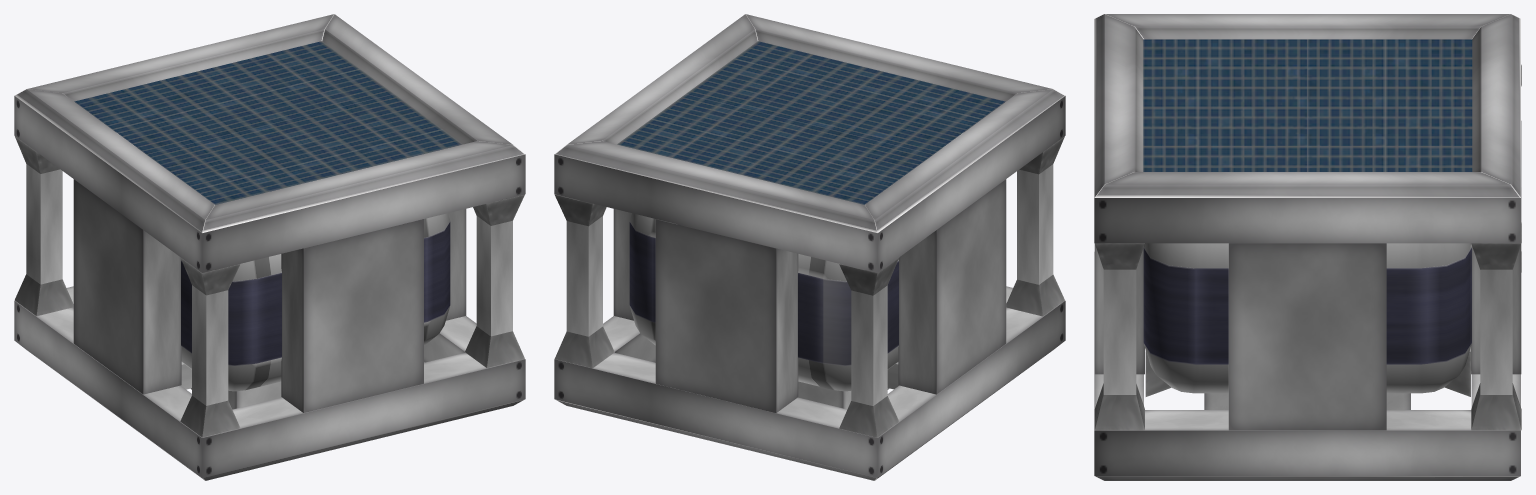
Rendered from QuarterChassis.FBX.
3 renders of one model, left to right at view 1: azimuth 30°, elevation 25°; view 2: azimuth 150°, elevation 25°; view 3: azimuth 270°, elevation 25°, orthographic. The views are drawn at different scales.
Parts seen in each view (by area): view 1: Frame001, Box001, Frame002, SideHardpoint002, SideHardpoint001, StorageTank001, Pilar002, Pilar004, Pilar001, SideHardpoint003, TopHardpoint002; view 2: Frame001, Box001, Frame002, SideHardpoint004, SideHardpoint001, StorageTank001, Pilar001, Pilar003, Pilar002, SideHardpoint003, TopHardpoint002; view 3: Frame001, Box001, SideHardpoint003, Frame002, StorageTank001, Pilar004, Pilar003, SideHardpoint004, SideHardpoint002, Pilar013, TopHardpoint002.
Boxes of the visible parts, x1,y1,x2,y2 form: Frame001: [14, 14, 525, 272]; Box001: [74, 41, 462, 204]; Frame002: [14, 286, 525, 480]; SideHardpoint002: [281, 219, 423, 412]; SideHardpoint001: [73, 179, 181, 394]; StorageTank001: [139, 149, 450, 391]; Pilar002: [180, 257, 240, 437]; Pilar004: [465, 194, 524, 367]; Pilar001: [15, 136, 73, 316]; SideHardpoint003: [446, 209, 466, 320]; TopHardpoint002: [191, 381, 281, 409]; Frame001: [554, 14, 1065, 272]; Box001: [617, 41, 1005, 204]; Frame002: [554, 286, 1065, 480]; SideHardpoint004: [655, 219, 798, 412]; SideHardpoint001: [898, 179, 1006, 394]; StorageTank001: [629, 149, 940, 391]; Pilar001: [839, 257, 899, 437]; Pilar003: [554, 194, 614, 368]; Pilar002: [1006, 136, 1064, 316]; SideHardpoint003: [613, 209, 633, 320]; TopHardpoint002: [798, 381, 889, 409]; Frame001: [1094, 14, 1520, 243]; Box001: [1143, 39, 1472, 171]; SideHardpoint003: [1228, 243, 1386, 430]; Frame002: [1094, 252, 1520, 480]; StorageTank001: [1143, 243, 1471, 393]; Pilar004: [1094, 243, 1144, 430]; Pilar003: [1471, 222, 1521, 430]; SideHardpoint004: [1471, 121, 1521, 374]; SideHardpoint002: [1094, 244, 1144, 374]; Pilar013: [1145, 347, 1470, 396]; TopHardpoint002: [1204, 393, 1410, 409].
Bounding box in the file's own units: 0.4226 × 0.3259 × 0.4256.
